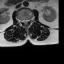CCS_normal: (25, 18, 27, 25)
LFS_stenosis: (28, 18, 30, 22)
LLS_normal: (27, 18, 28, 23)
RFS_stenosis: (21, 18, 23, 23)
RLS_normal: (23, 18, 25, 23)
